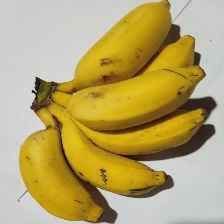banana: (20, 20, 190, 188)
